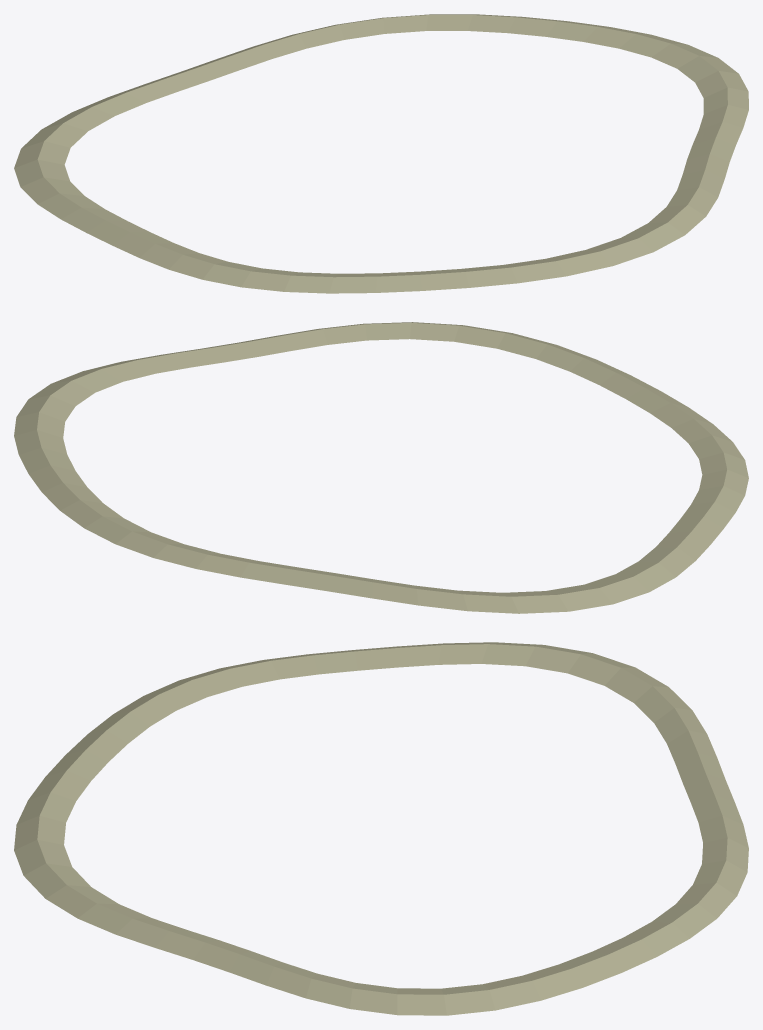
Rendered from PondEdge_Blockout.glb.
3 renders of one model, top to bottom at view 1: azimuth 30°, elevation 25°; view 2: azimuth 150°, elevation 25°; view 3: azimuth 270°, elevation 25°, orthographic. The views are drawn at different scales.
Parts seen in each view (by area): view 1: PondEdge_Blockout; view 2: PondEdge_Blockout; view 3: PondEdge_Blockout.
Part boxes in pixels (x1,y1,x2,y2): PondEdge_Blockout: [14, 14, 748, 293]; PondEdge_Blockout: [14, 322, 748, 613]; PondEdge_Blockout: [14, 642, 748, 1015].
Bounding box in the file's own units: 27.95 × 0.325 × 23.25.
